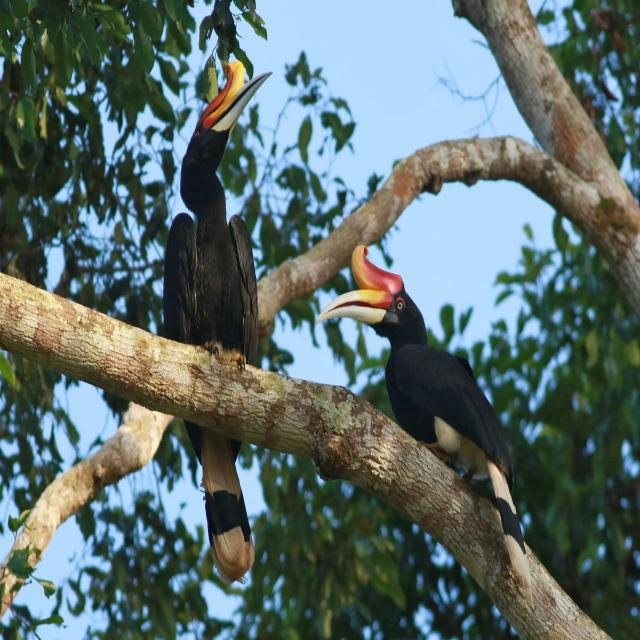Hornbill: (156, 57, 272, 580)
